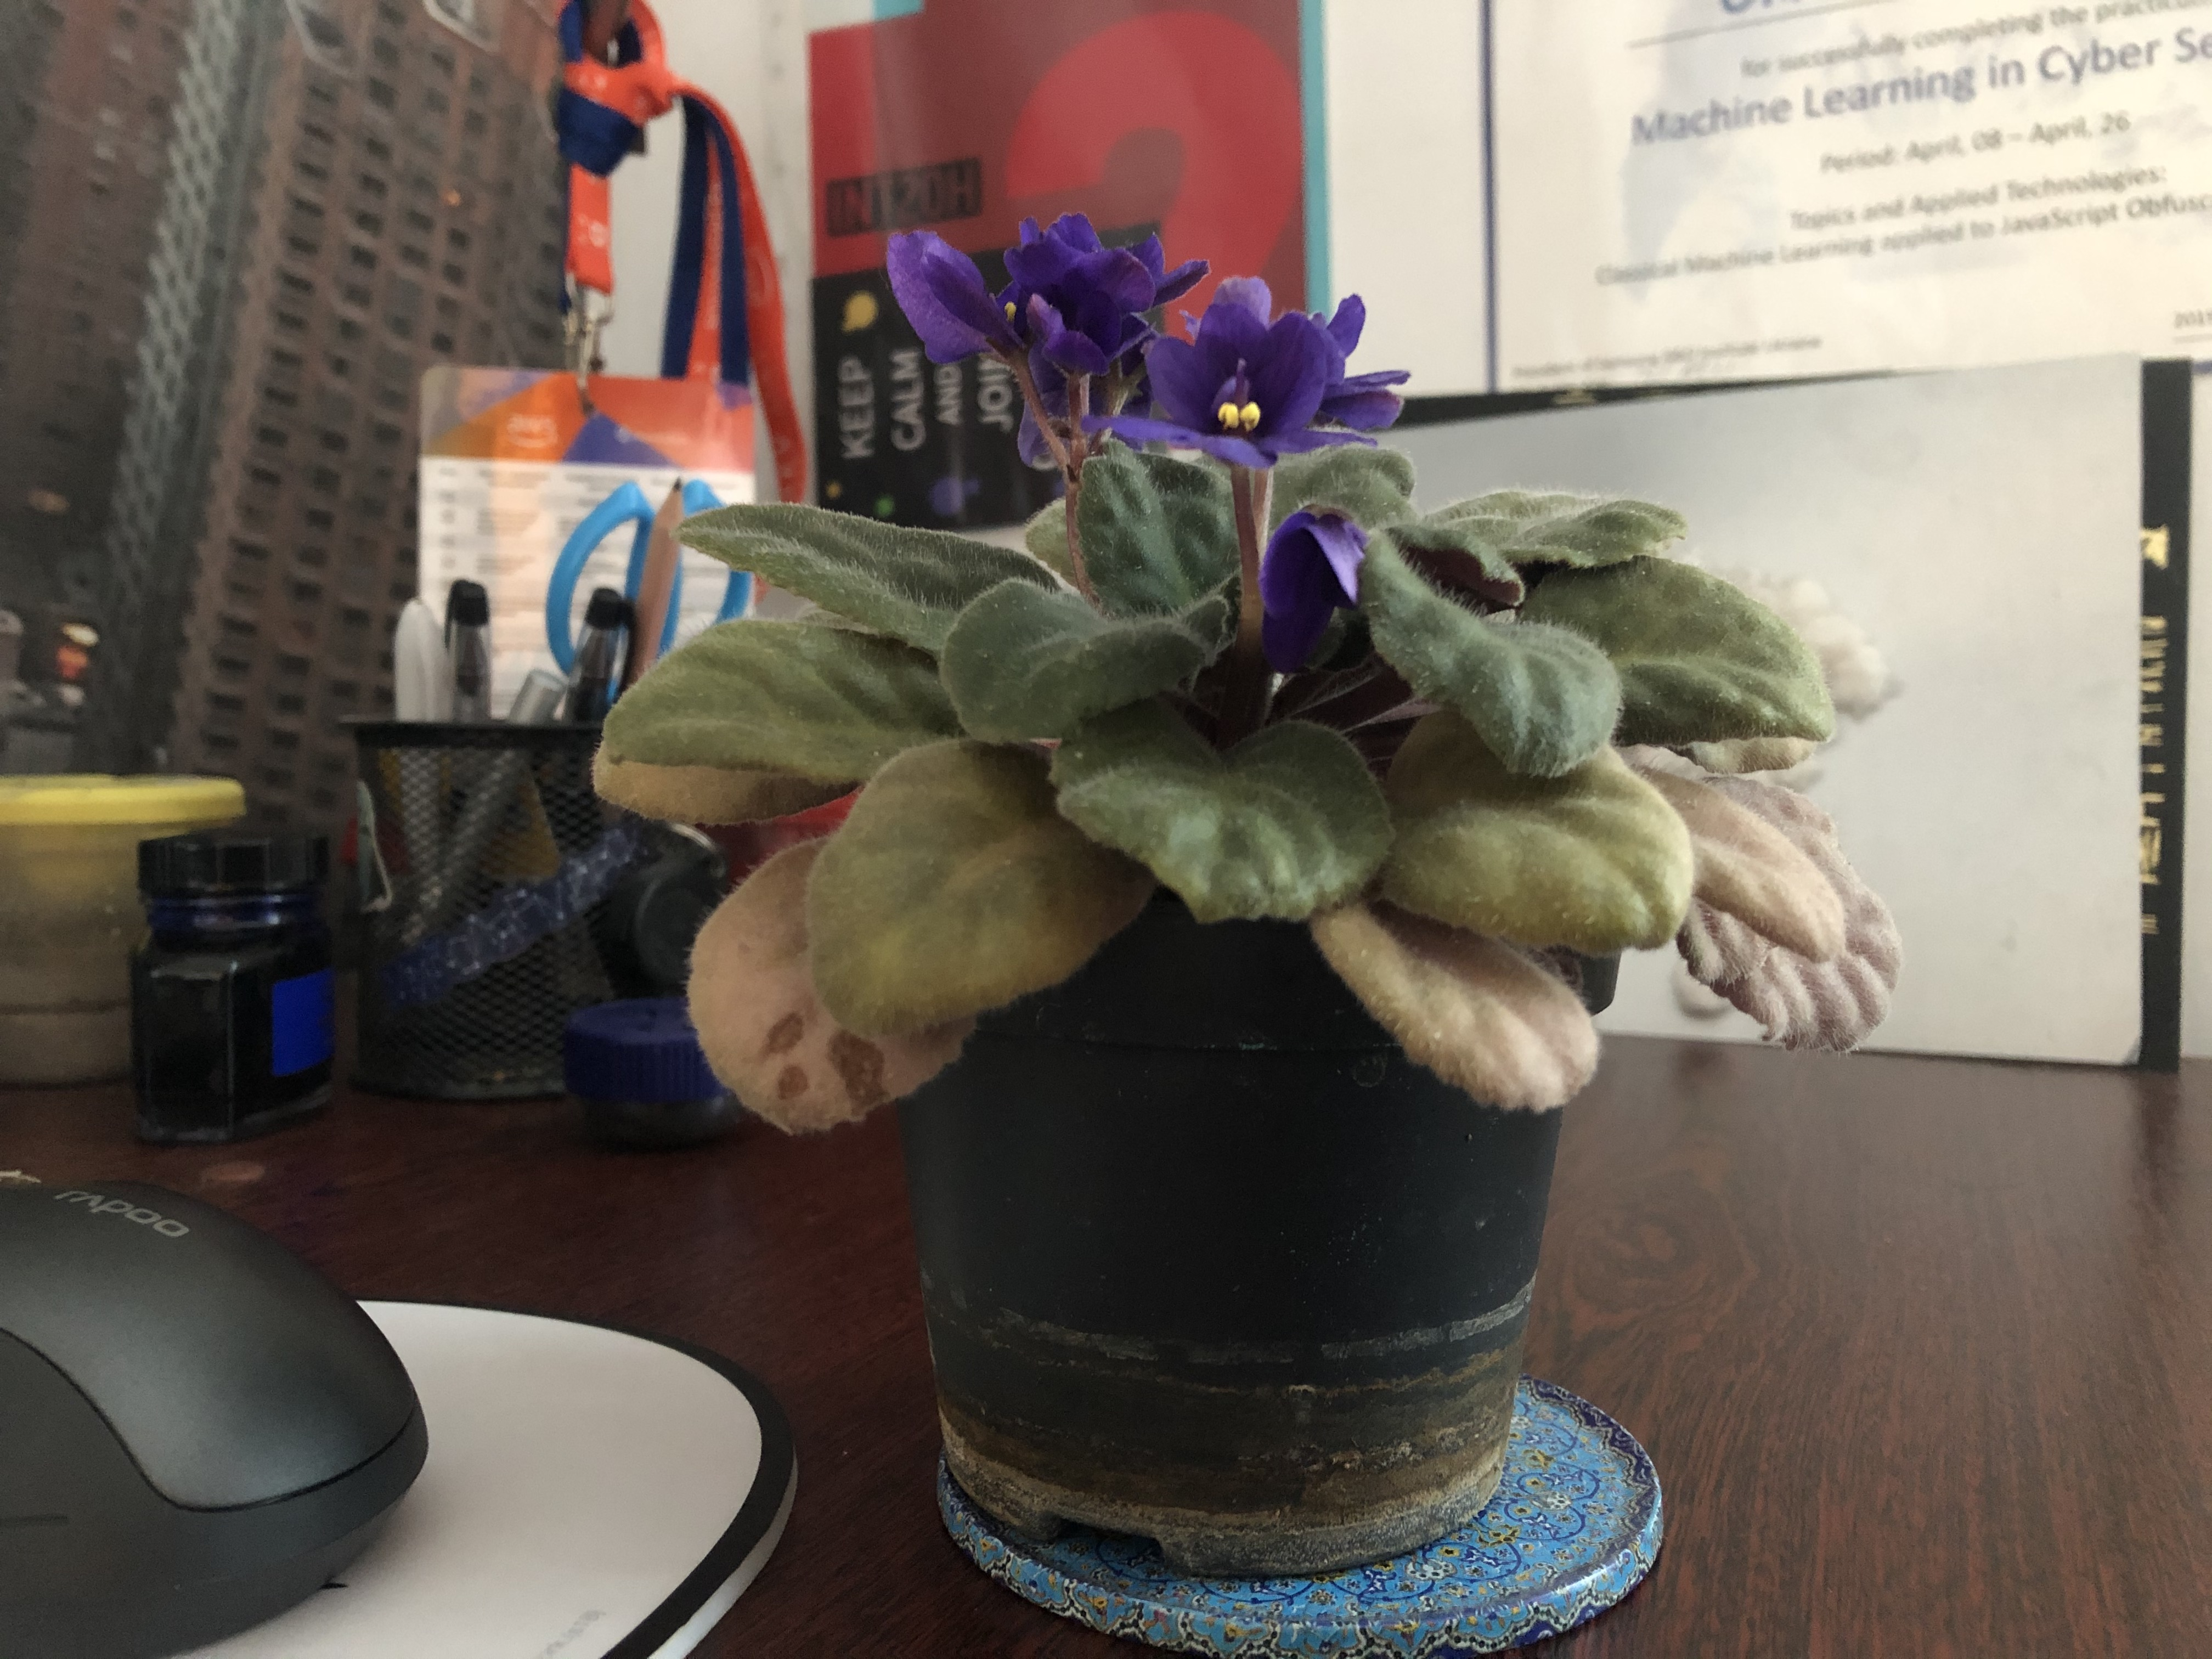ignore: (554, 122, 1914, 1188)
